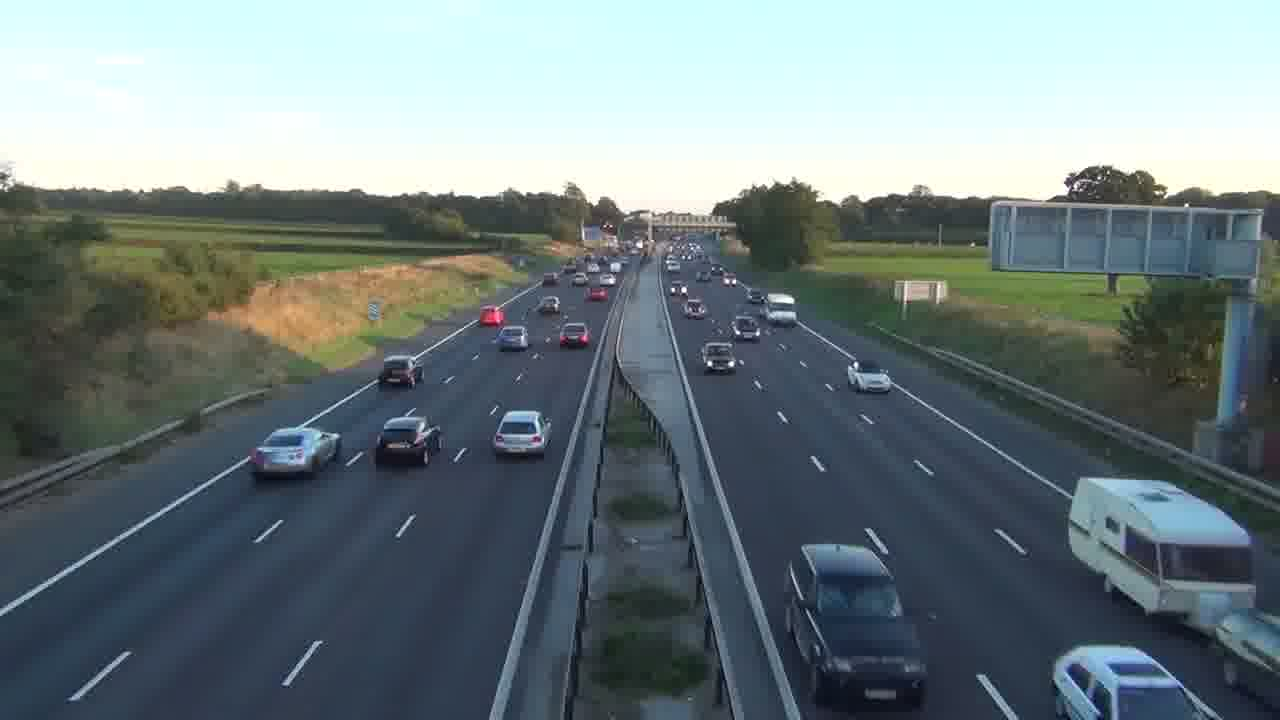car: (1051, 642, 1224, 719), (248, 426, 342, 480), (492, 410, 552, 457), (846, 359, 893, 394), (380, 354, 422, 388), (558, 320, 592, 349), (495, 325, 529, 351)
truck: (1066, 476, 1257, 634), (784, 529, 929, 708), (480, 304, 506, 327)
